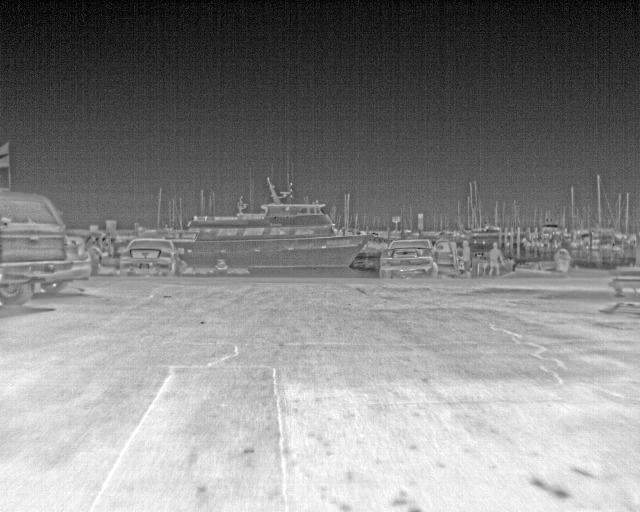bicycle: (1, 189, 69, 307), (378, 237, 459, 282), (43, 236, 93, 296), (120, 235, 187, 278)
empty: (488, 241, 507, 279), (460, 240, 474, 276)
